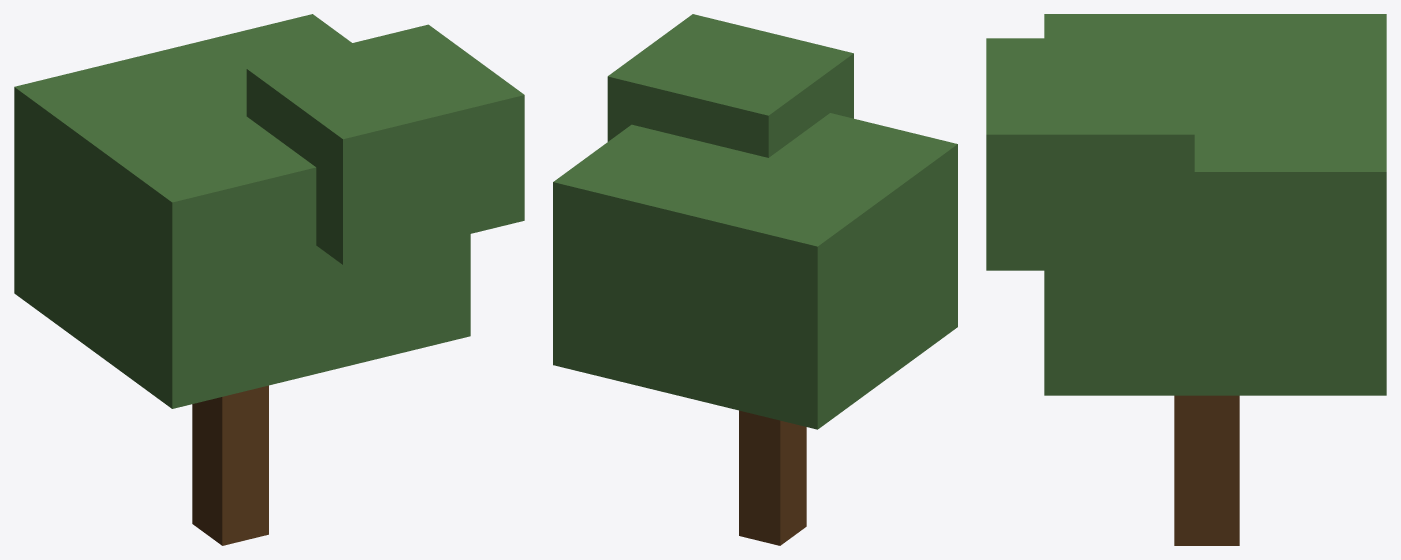
Rendered from trees2.gltf.
The picture shows the model from 3 angles, left to right: view 1: azimuth 30°, elevation 25°; view 2: azimuth 150°, elevation 25°; view 3: azimuth 270°, elevation 25°; orthographic projection. The views are drawn at different scales.
Parts seen in each view (by area): view 1: Cube.002; view 2: Cube.002; view 3: Cube.002.
Boxes of the visible parts, x1,y1,x2,y2 form: Cube.002: (14, 14, 524, 545); Cube.002: (553, 14, 957, 545); Cube.002: (986, 14, 1386, 545).
Bounding box in the file's own units: 0.368 × 0.4988 × 0.3616.
